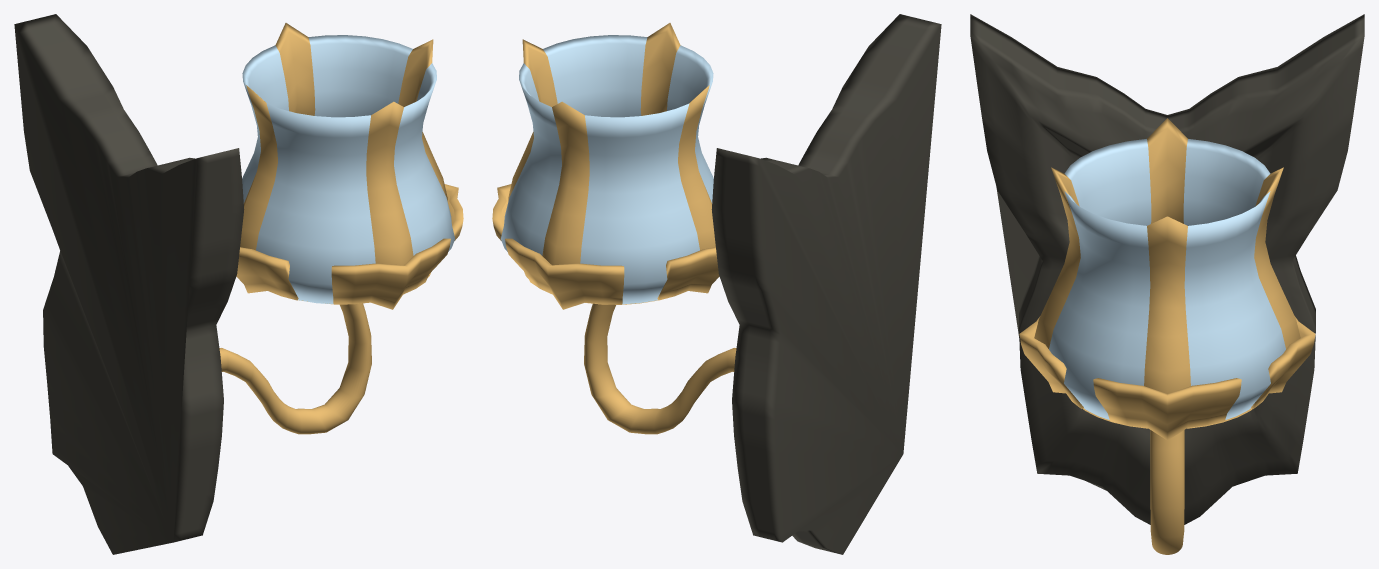
Rendered from WallLamp.fbx.
3 renders of one model, left to right at view 1: azimuth 30°, elevation 25°; view 2: azimuth 150°, elevation 25°; view 3: azimuth 270°, elevation 25°, orthographic. The views are drawn at different scales.
Visible parts, largest first — view 1: Cube, Cylinder, Cylinder.002, Cylinder.001, Cylinder.003; view 2: Cube, Cylinder, Cylinder.002, Cylinder.001, Cylinder.003; view 3: Cube, Cylinder, Cylinder.002, Cylinder.001, Cylinder.003.
Part boxes in pixels (x1,y1,x2,y2): Cube: (14,14,244,554); Cylinder: (242,35,454,304); Cylinder.002: (240,23,447,265); Cylinder.001: (236,184,463,309); Cylinder.003: (219,303,371,434); Cube: (711,14,941,554); Cylinder: (501,35,713,304); Cylinder.002: (508,23,715,265); Cylinder.001: (492,184,719,309); Cylinder.003: (584,303,736,434); Cube: (970,14,1364,524); Cylinder: (1049,139,1285,419); Cylinder.002: (1034,118,1300,393); Cylinder.001: (1019,317,1315,440); Cylinder.003: (1150,430,1184,554).
Bounding box in the file's own units: 337 × 425 × 303.
